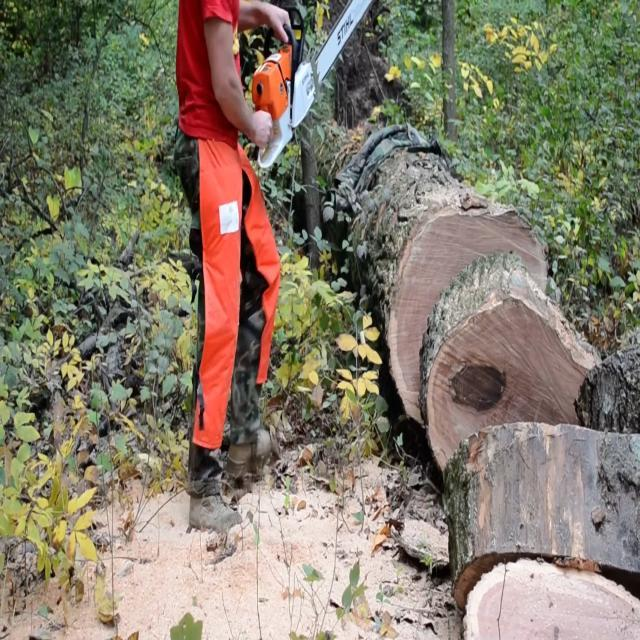Chainsaw: (244, 0, 388, 184)
